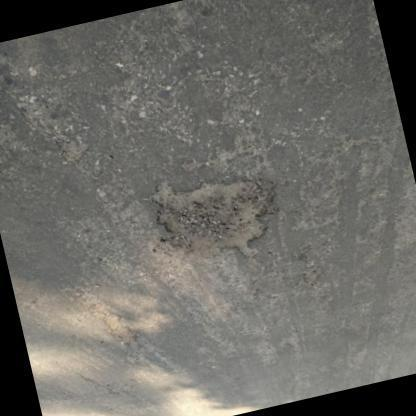pothole: (152, 177, 278, 257), (18, 84, 92, 171), (96, 304, 138, 350)
